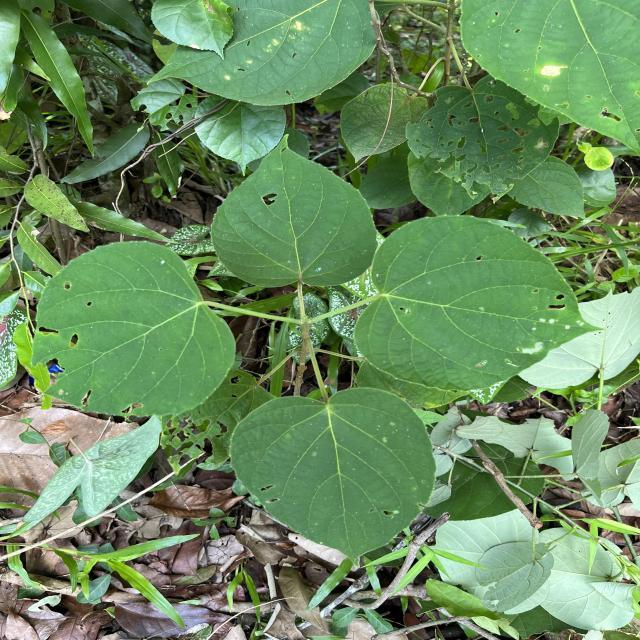Clerodendrum infortunatum: (352, 213, 608, 395), (28, 239, 242, 421), (230, 386, 438, 568), (208, 131, 380, 289)
